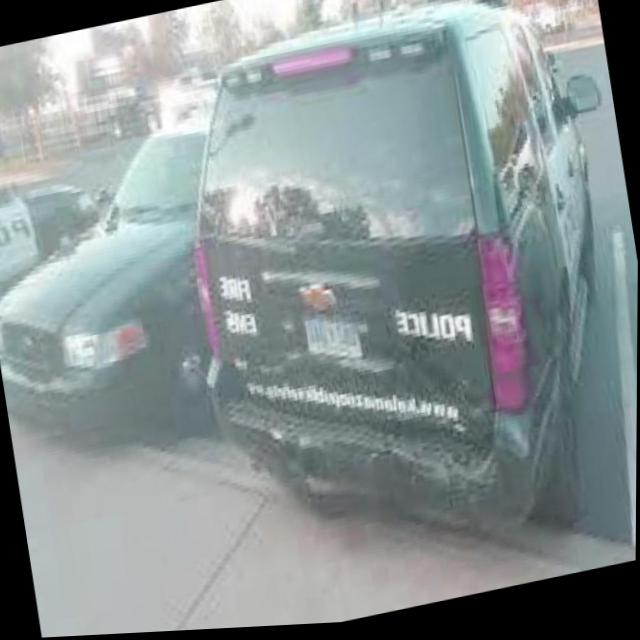Car-Damage: (361, 340, 503, 533)
